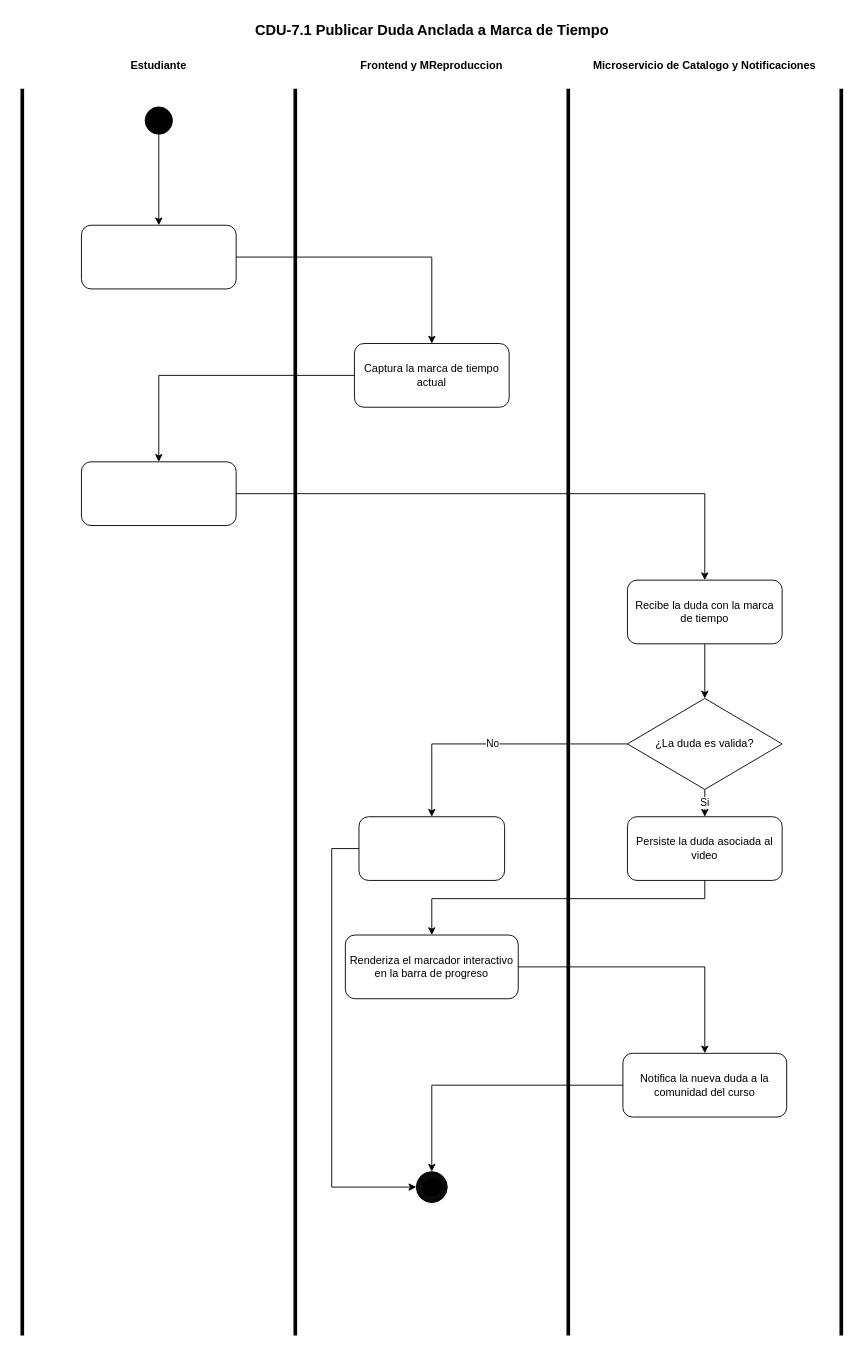
The diagram is 863 pixels wide and 1352 high, and some of its shapes have lost their labels. The centre of each missing label's shape, as x and y in pixels:
"Pausa el video en el instante deseado" belongs at point (158, 256).
"Rechaza la duda y notifica el error" belongs at point (431, 848).
"Redacta y envia la pregunta" belongs at point (158, 493).
